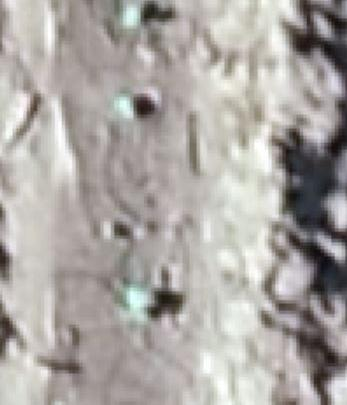cotton: (124, 286, 146, 318), (123, 4, 141, 26), (116, 95, 134, 115)
